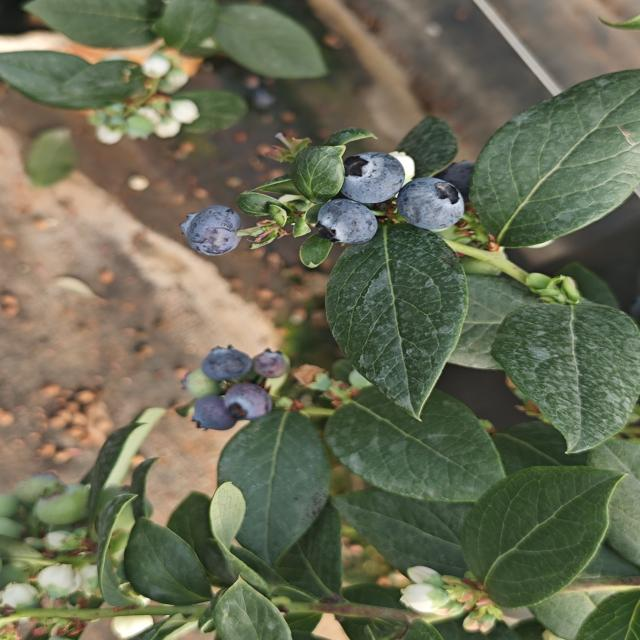ripe: (394, 176, 467, 233), (337, 150, 406, 206), (178, 204, 245, 258), (312, 198, 380, 247), (217, 381, 280, 419), (184, 393, 241, 433), (198, 344, 254, 384), (251, 347, 291, 381)
